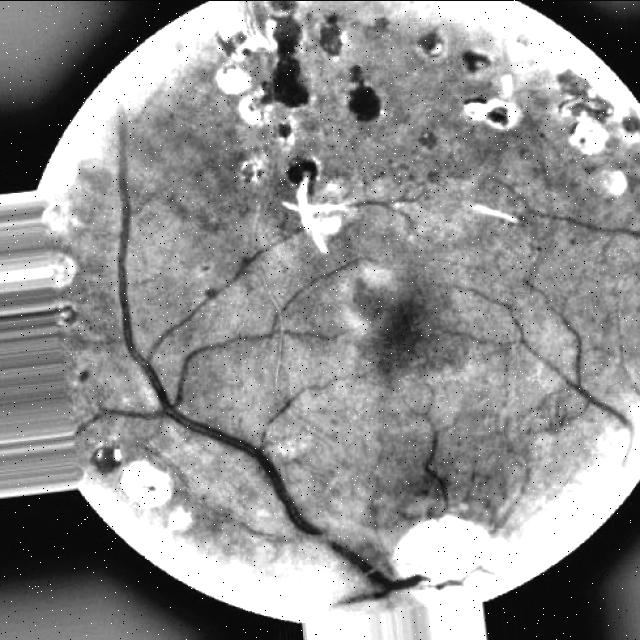Macula: (311, 253, 417, 353)
Nerves: (77, 127, 400, 585)
Optic Disk: (295, 489, 547, 623)
